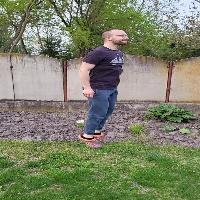high_jumps: (61, 22, 141, 162)
